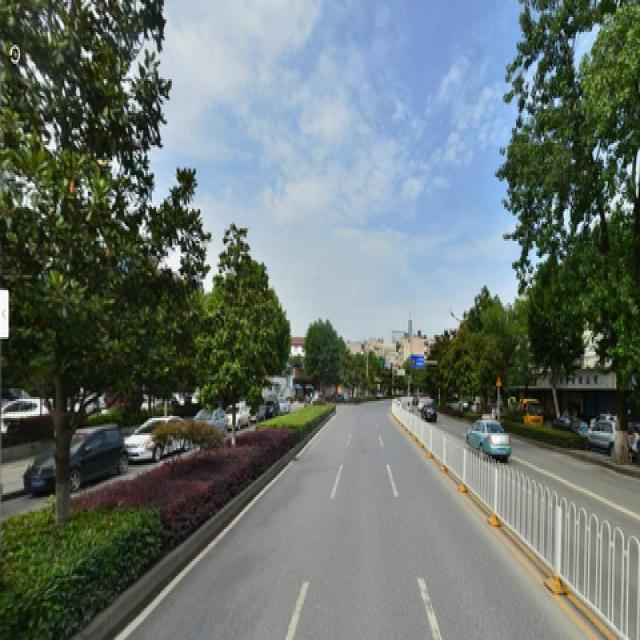magn: (2, 4, 185, 514)
